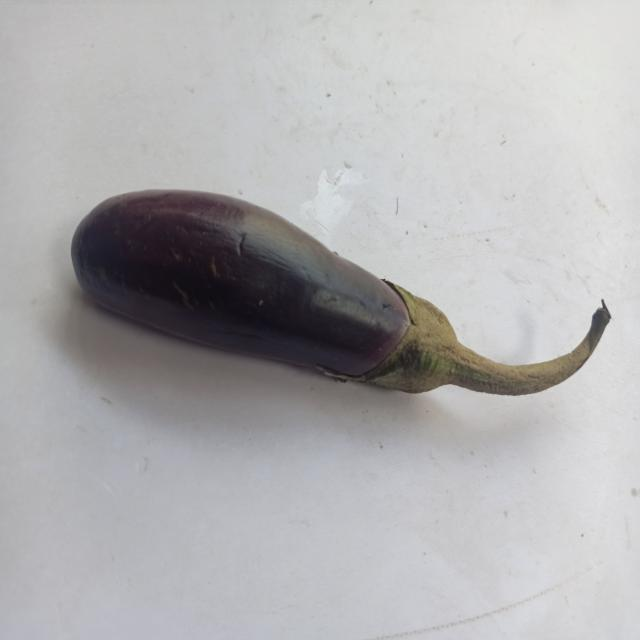Brinjal: (48, 118, 640, 484)
